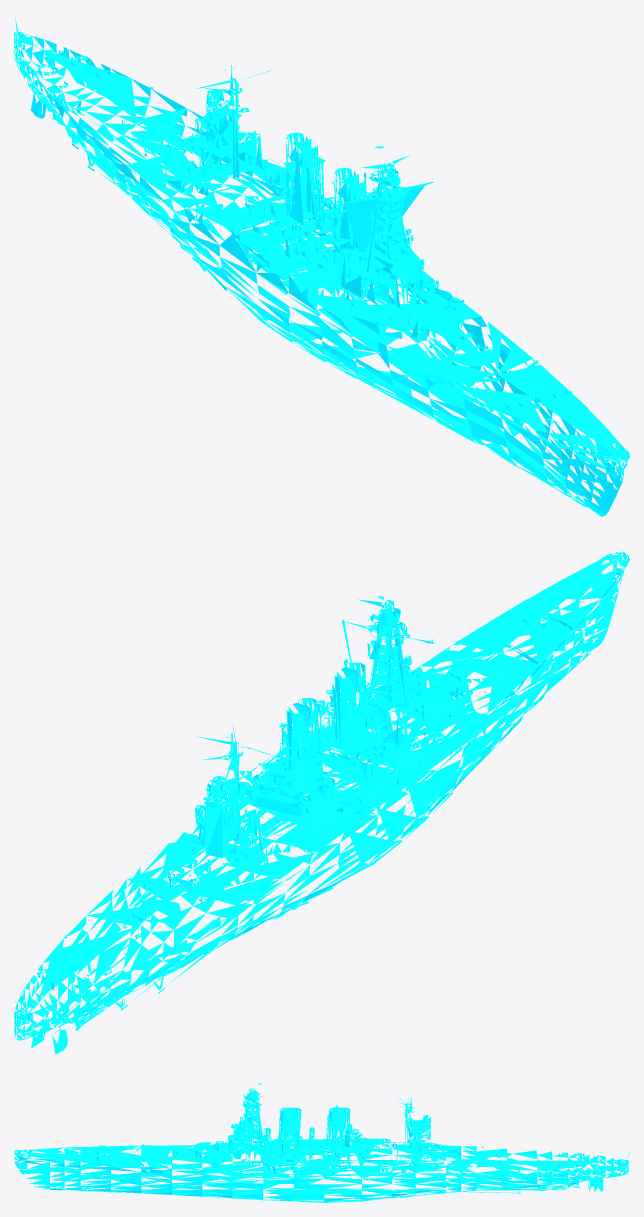
The model's file is Tsurugi.glb.
The picture shows the model from 3 angles, top to bottom: view 1: azimuth 30°, elevation 25°; view 2: azimuth 150°, elevation 25°; view 3: azimuth 270°, elevation 25°; orthographic projection. The views are drawn at different scales.
Bounding box in the file's own units: 2.17 × 3.5 × 18.49.
